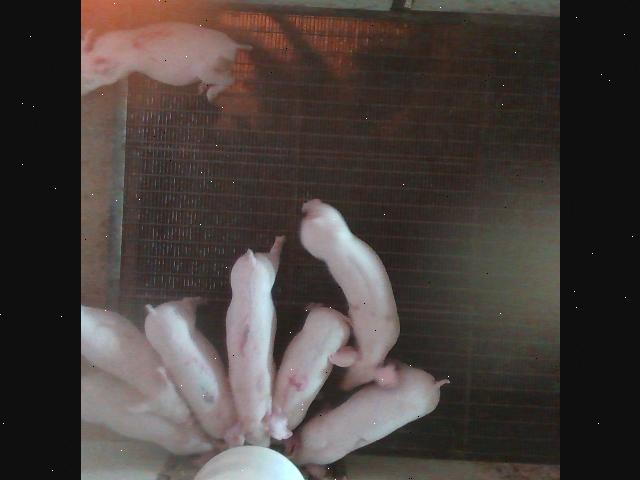pig-1: (224, 236, 291, 446)
pig-3: (82, 22, 250, 101)
pig-4: (271, 306, 350, 429)
